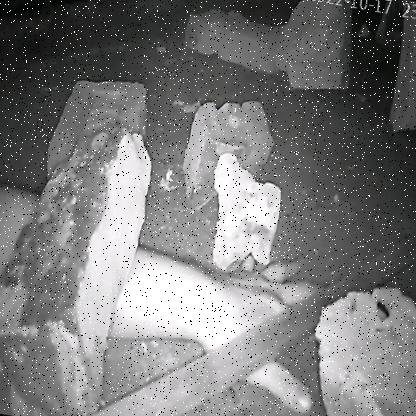hand: (99, 208, 377, 416)
